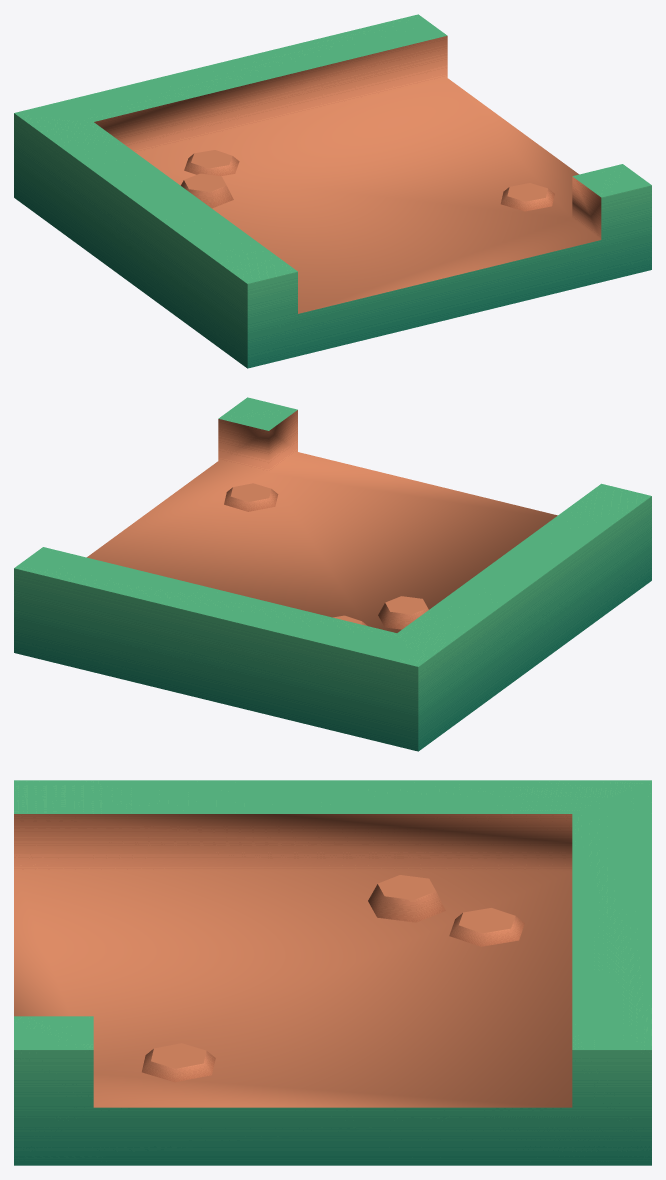
Rendered from tile-corner-square.glb.
The picture shows the model from 3 angles, top to bottom: view 1: azimuth 30°, elevation 25°; view 2: azimuth 150°, elevation 25°; view 3: azimuth 270°, elevation 25°; orthographic projection. The views are drawn at different scales.
Parts seen in each view (by area): view 1: tile-corner-square; view 2: tile-corner-square; view 3: tile-corner-square.
Part boxes in pixels (bbox=[...]): tile-corner-square: bbox=[14, 14, 651, 368]; tile-corner-square: bbox=[14, 397, 651, 751]; tile-corner-square: bbox=[14, 780, 651, 1165].
Bounding box in the file's own units: 1 × 0.2 × 1.
1 material, 1 textured.
